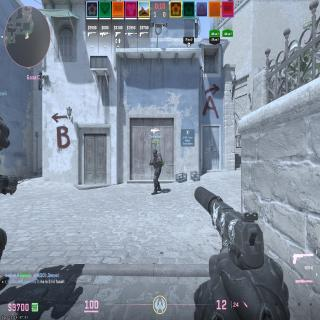CT-Body: (0, 116, 12, 292), (150, 148, 164, 195)
CT-Head: (0, 118, 10, 150), (153, 148, 158, 158)
